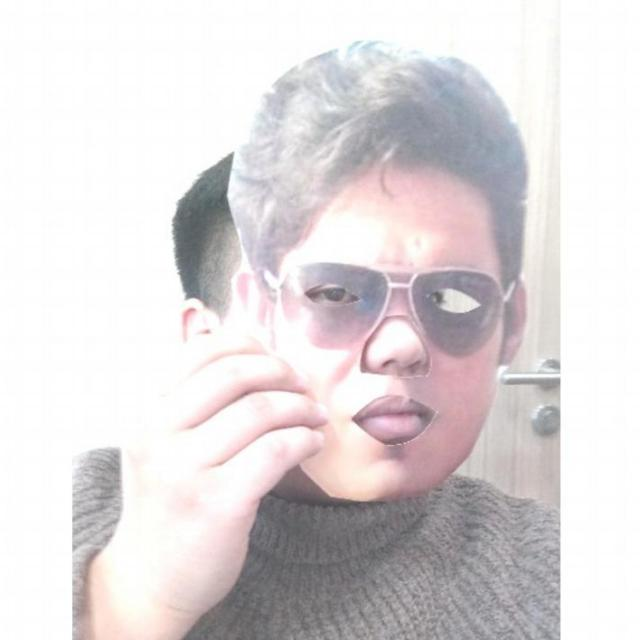mask: (223, 38, 537, 501)
